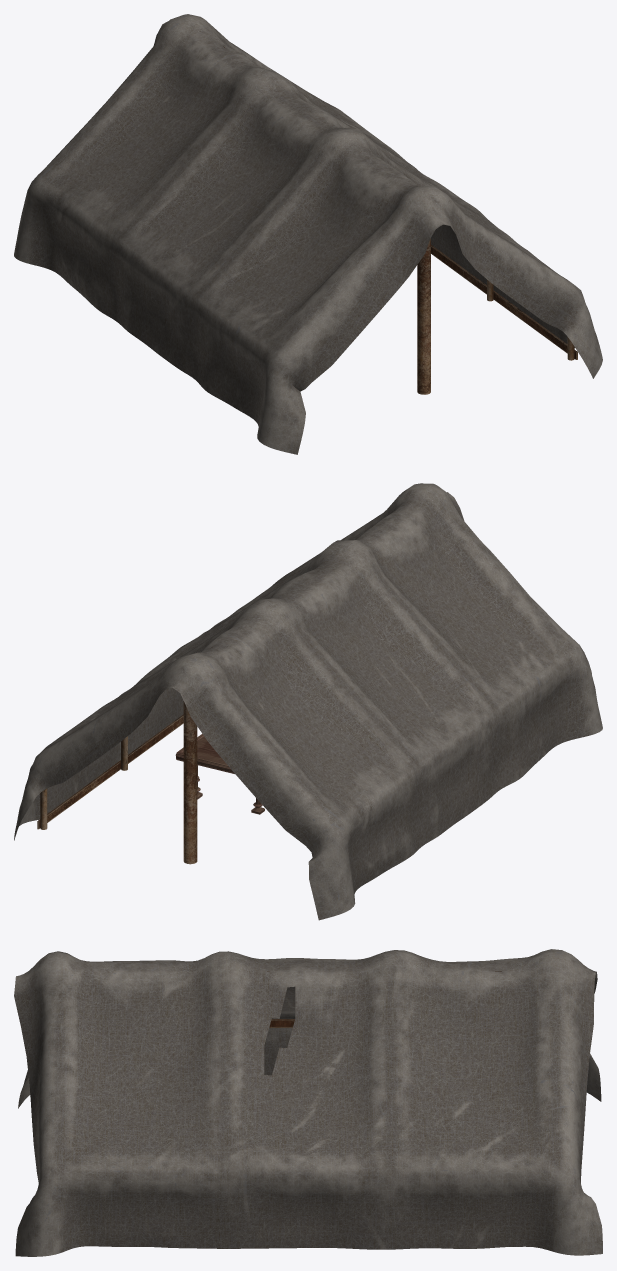
Rendered from TableTent.glb.
The picture shows the model from 3 angles, top to bottom: view 1: azimuth 30°, elevation 25°; view 2: azimuth 150°, elevation 25°; view 3: azimuth 270°, elevation 25°; orthographic projection. The views are drawn at different scales.
Parts seen in each view (by area): view 1: Cloth_Cloth_0, base_base_0; view 2: Cloth_Cloth_0, base_base_0, SM_Wartable.001_War_table_0; view 3: Cloth_Cloth_0.
Part boxes in pixels (x1,y1,x2,y2): Cloth_Cloth_0: [14, 14, 602, 454]; base_base_0: [223, 46, 577, 394]; Cloth_Cloth_0: [14, 483, 602, 920]; base_base_0: [37, 647, 212, 864]; SM_Wartable.001_War_table_0: [175, 734, 264, 814]; Cloth_Cloth_0: [14, 949, 602, 1256].
Size of what is drawn, in the model's own units: 7144 by 4402 by 10154.
Materials: 3 (3 with a texture image).
